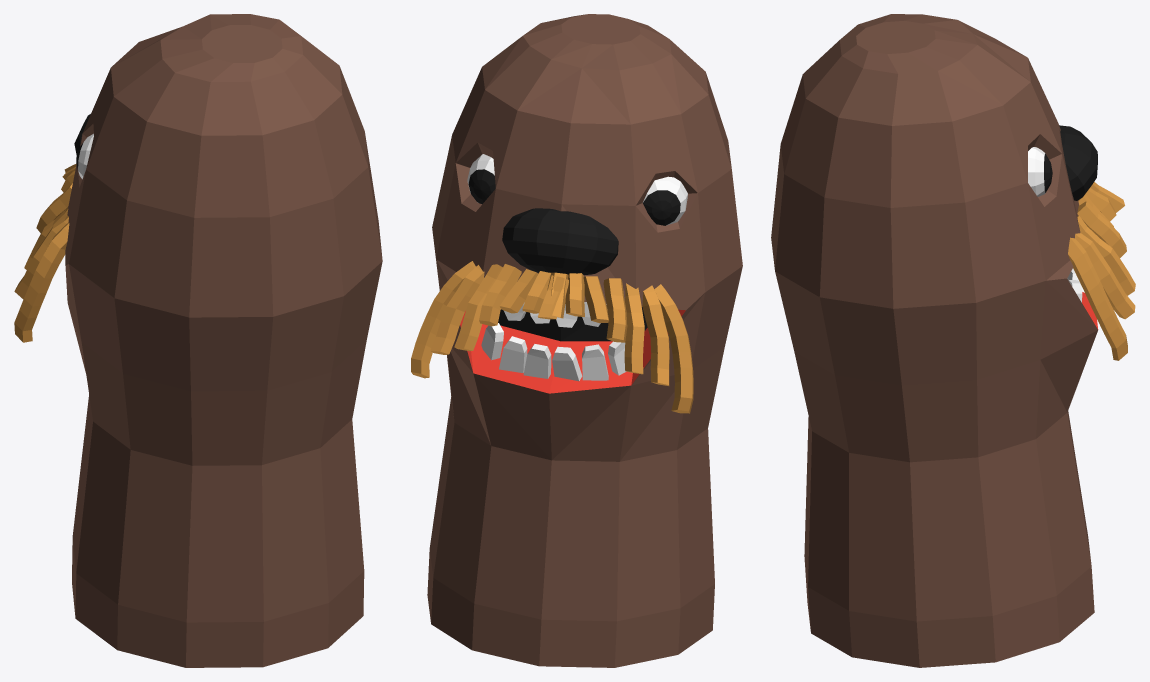
The model's file is scene_91NUtw6GwP.glb.
The picture shows the model from 3 angles, left to right: view 1: azimuth 30°, elevation 25°; view 2: azimuth 150°, elevation 25°; view 3: azimuth 270°, elevation 25°; orthographic projection. The views are drawn at different scales.
Parts seen in each view (by area): view 1: group920926165, group339355919; view 2: group920926165, group339355919, group1523319099, group111838788, group1417185726, group880003052, group1195085330, group284305527, group1048151896, group1759050479, group905071681, group2085160222; view 3: group920926165, group1523319099, group111838788, group880003052.
Boxes of the visible parts, <box> form: group920926165: <box>65,14,382,667</box>; group339355919: <box>14,167,75,342</box>; group920926165: <box>427,14,742,667</box>; group339355919: <box>547,272,693,413</box>; group1523319099: <box>411,261,568,378</box>; group111838788: <box>502,208,618,275</box>; group1417185726: <box>643,176,687,225</box>; group880003052: <box>467,154,495,204</box>; group1195085330: <box>582,344,608,380</box>; group284305527: <box>499,336,527,372</box>; group1048151896: <box>523,344,551,378</box>; group1759050479: <box>552,346,582,381</box>; group905071681: <box>481,323,503,360</box>; group2085160222: <box>608,341,626,375</box>; group920926165: <box>771,14,1098,667</box>; group1523319099: <box>1068,182,1135,360</box>; group111838788: <box>1059,125,1097,200</box>; group880003052: <box>1028,147,1052,196</box>.
Size of the model in its own units: 0.269 by 0.51 by 0.2912.
